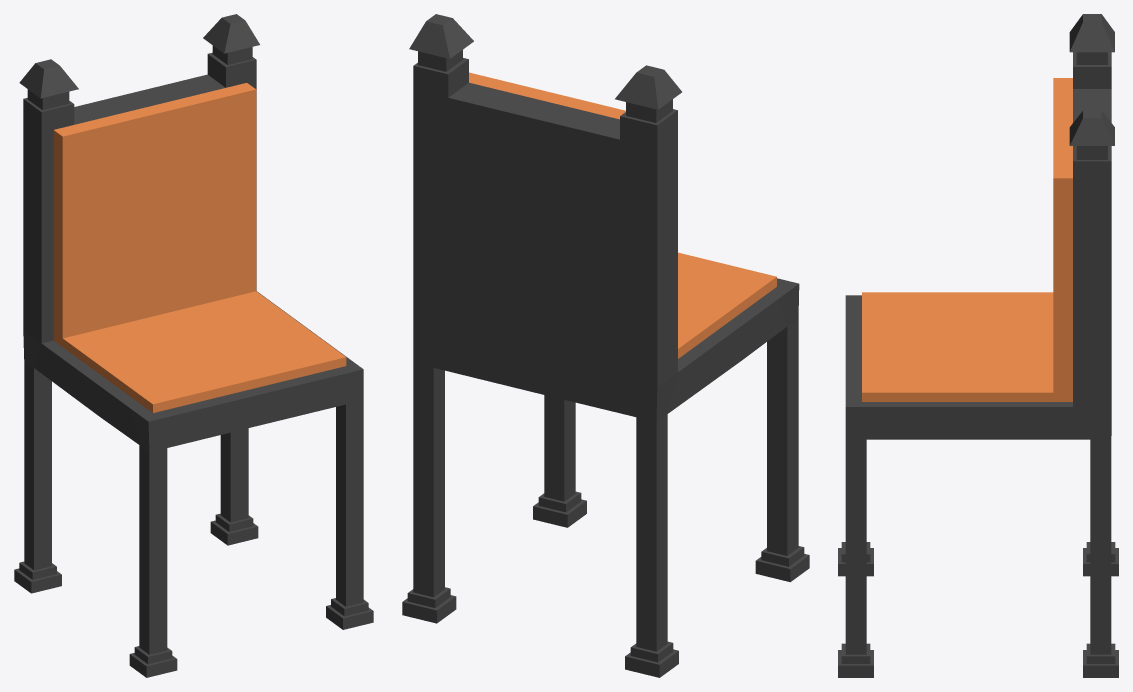
The model's file is chair.fbx.
The picture shows the model from 3 angles, left to right: view 1: azimuth 30°, elevation 25°; view 2: azimuth 150°, elevation 25°; view 3: azimuth 270°, elevation 25°; orthographic projection. The views are drawn at different scales.
Parts seen in each view (by area): view 1: chair; view 2: chair; view 3: chair.
Boxes of the visible parts, x1,y1,x2,y2 form: chair: [14, 14, 373, 677]; chair: [402, 14, 809, 677]; chair: [838, 14, 1118, 677].
Bounding box in the file's own units: 133 × 134 × 292.
